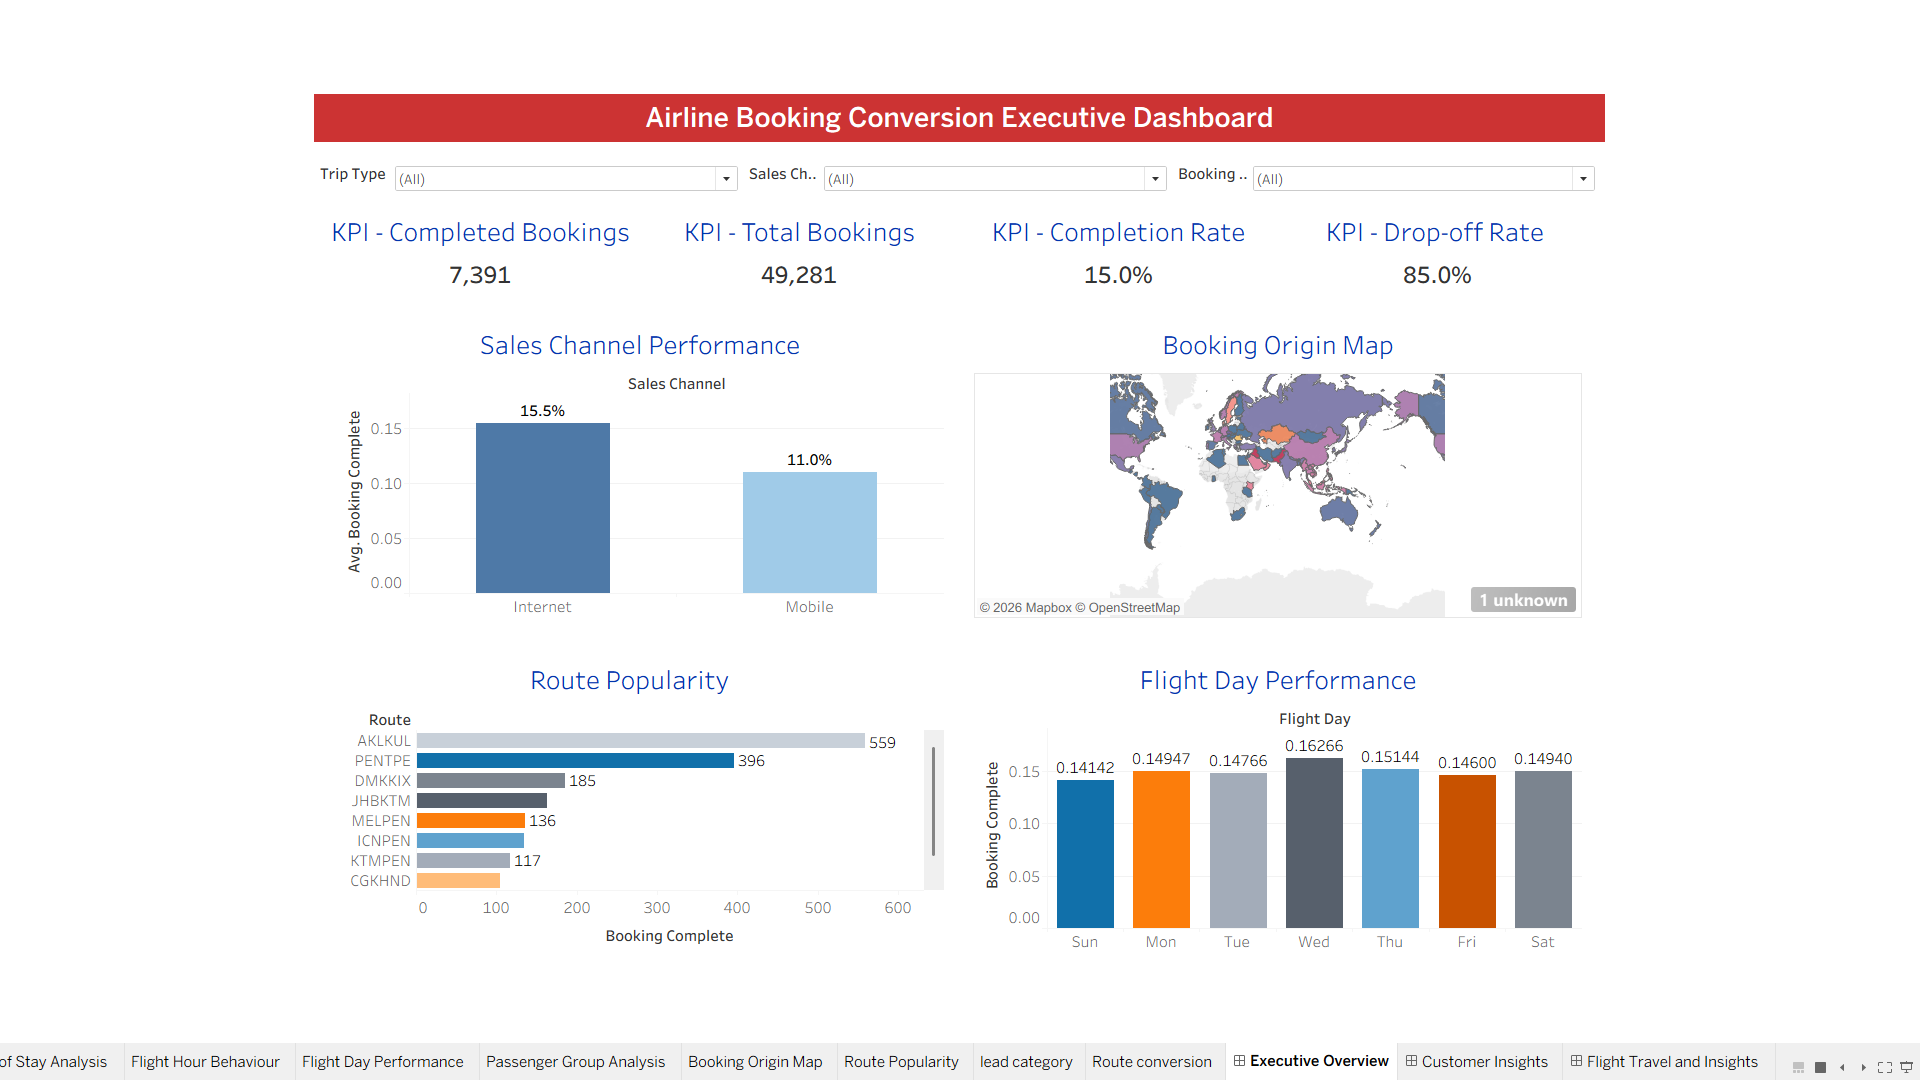

Layout of this report page (visuals, bound fields, positions):
{"tool":"tableau","page":{"name":"Executive Overview","canvas":[1300,900],"ordinal":1},"visuals":[{"type":"text","box":[0,19,1299,56]},{"type":"filter","title":"Route Popularity","param":"[federated.0qj7os00s5qz081g934kt1tfog1x].[none:trip_type:nk]","box":[6,88,429,43]},{"type":"filter","title":"Sales Channel Performance","param":"[federated.0qj7os00s5qz081g934kt1tfog1x].[none:sales_channel:nk]","box":[435,88,429,43]},{"type":"filter","title":"Booking Origin Map","param":"[federated.0qj7os00s5qz081g934kt1tfog1x].[none:booking_origin:nk]","box":[864,88,428,43]},{"type":"worksheet","title":"KPI - Completed Bookings","mark":"Text","box":[11,135,319,87]},{"type":"worksheet","title":"KPI - Total Bookings","mark":"Text","box":[330,135,319,87]},{"type":"worksheet","title":"KPI - Completion Rate","mark":"Text","box":[649,135,319,87]},{"type":"worksheet","title":"KPI - Drop-off Rate ","mark":"Text","box":[968,135,319,87]},{"type":"worksheet","title":"Sales Channel Performance","mark":"Bar","rows":["booking_complete"],"cols":["sales_channel"],"box":[11,237,638,325]},{"type":"worksheet","title":"Booking Origin Map","mark":"Multipolygon","box":[649,237,638,325]},{"type":"worksheet","title":"Route Popularity","mark":"Bar","rows":["route"],"cols":["booking_complete"],"box":[11,572,638,325]},{"type":"worksheet","title":"Flight Day Performance","mark":"Bar","rows":["booking_complete"],"cols":["flight_day"],"box":[649,572,638,325]}]}

Visuals, with their boxes on the page's 1300x900 design canvas (x1, y1, x2, y2). These are canvas units, not pixel positions in the 1920x1080 screenshot, which may show the page scaled, cropped or inside an application window:
text: <box>0,19,1299,75</box>
"Route Popularity" filter: <box>6,88,435,131</box>
"Sales Channel Performance" filter: <box>435,88,864,131</box>
"Booking Origin Map" filter: <box>864,88,1292,131</box>
"KPI - Completed Bookings" worksheet (Text marks): <box>11,135,330,222</box>
"KPI - Total Bookings" worksheet (Text marks): <box>330,135,649,222</box>
"KPI - Completion Rate" worksheet (Text marks): <box>649,135,968,222</box>
"KPI - Drop-off Rate " worksheet (Text marks): <box>968,135,1287,222</box>
"Sales Channel Performance" worksheet (Bar marks): <box>11,237,649,562</box>
"Booking Origin Map" worksheet (Multipolygon marks): <box>649,237,1287,562</box>
"Route Popularity" worksheet (Bar marks): <box>11,572,649,897</box>
"Flight Day Performance" worksheet (Bar marks): <box>649,572,1287,897</box>
